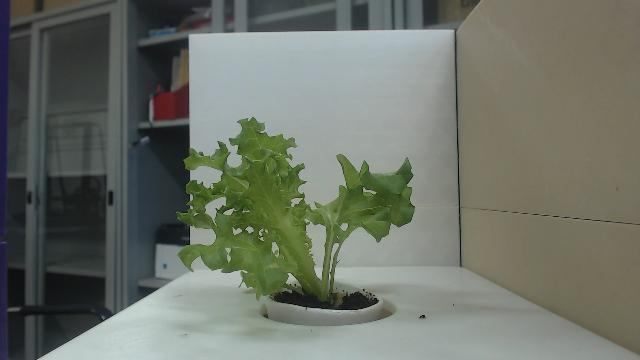Vegetative Stage: (175, 116, 417, 308)
